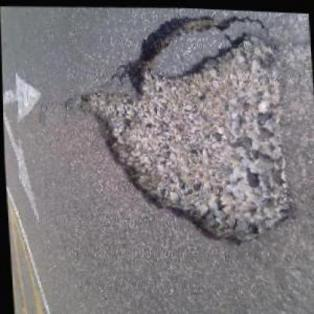Hueco: (64, 4, 296, 254)
